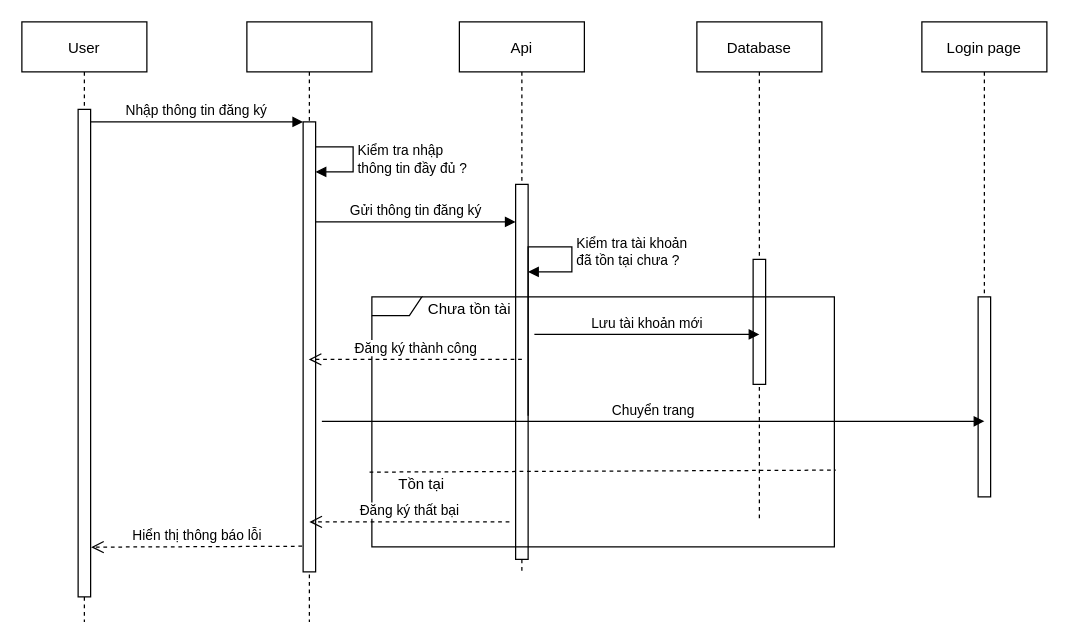
This 1069x644 diagram has some shape labels left out. The box of each missing label's shape, as (x1, y1, x2, y2) in pixels:
alt: (371, 296, 834, 547)
Register page: (246, 21, 372, 622)
